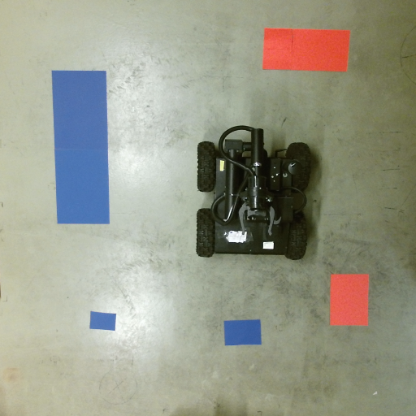Blue: (48, 69, 112, 227), (223, 318, 264, 347), (87, 312, 118, 332)
Jaguar: (194, 124, 314, 262)
Red: (259, 26, 352, 73), (328, 274, 371, 329)
